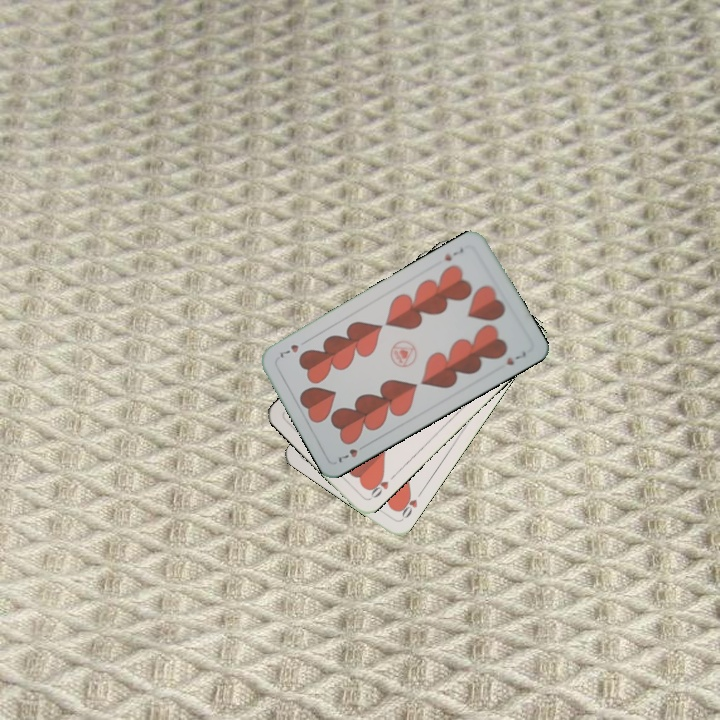H7: (333, 440, 370, 465), (440, 244, 466, 264)
HO: (364, 470, 398, 502), (394, 487, 425, 522)
